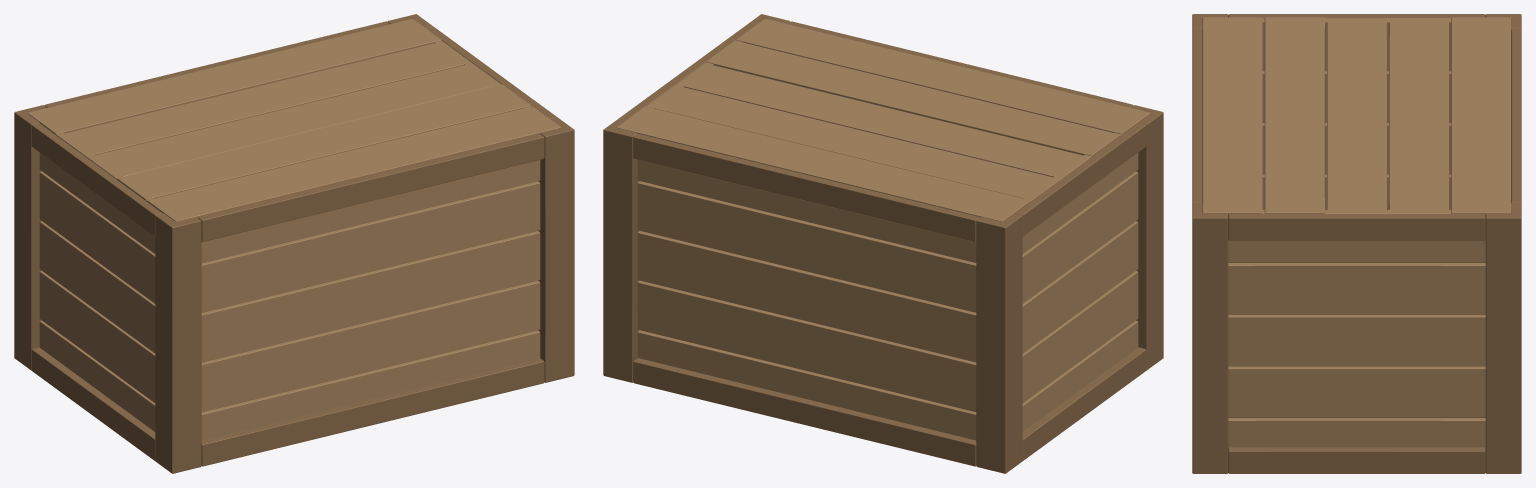
The model's file is crate_b.glb.
3 views of the same model, side by side, from view 1: azimuth 30°, elevation 25°; view 2: azimuth 150°, elevation 25°; view 3: azimuth 270°, elevation 25° (orthographic). The views are drawn at different scales.
Visible parts, largest first — view 1: by1b, by2b, by3b, ecke-1-1, top4, top1, top0, top3, top2, by0b, randy-10.5, randy-10.0 (+12 smaller); view 2: by1a, by2a, by3a, top1, ecke-11, top0, top2, top4, top3, by0a, randy10.5, randy10.0 (+12 smaller); view 3: bx2a, bx1a, bx3a, top0, top1, top4, top3, top2, ecke1-1, ecke11, bx0a, randx10.0 (+9 smaller).
Boxes of the visible parts, x1,y1,x2,y2 form: by1b: (201, 280, 540, 412); by2b: (201, 231, 540, 362); by3b: (201, 181, 540, 312); ecke-1-1: (155, 213, 201, 473); top4: (28, 19, 441, 134); top1: (117, 84, 531, 200); top0: (147, 106, 561, 221); top3: (58, 41, 470, 156); top2: (87, 63, 500, 178); by0b: (201, 330, 540, 440); randy-10.5: (198, 133, 544, 242); randy-10.0: (201, 358, 544, 466); by1a: (637, 280, 976, 412); by2a: (637, 231, 976, 362); by3a: (637, 181, 976, 312); top1: (706, 40, 1120, 156); ecke-11: (976, 213, 1022, 473); top0: (736, 18, 1150, 134); top2: (677, 63, 1090, 178); top4: (616, 106, 1030, 221); top3: (647, 85, 1060, 200); by0a: (637, 330, 976, 440); randy10.5: (633, 133, 979, 242); randy10.0: (633, 358, 976, 466); bx2a: (1228, 314, 1485, 366); bx1a: (1228, 366, 1485, 417); bx3a: (1228, 263, 1485, 314); top0: (1202, 17, 1262, 214); top1: (1264, 17, 1324, 213); top4: (1451, 17, 1511, 214); top3: (1389, 18, 1449, 213); top2: (1327, 18, 1386, 213); ecke1-1: (1192, 203, 1228, 473); ecke11: (1485, 203, 1521, 473); bx0a: (1228, 418, 1485, 447); randx10.0: (1228, 447, 1485, 473).
Bounding box in the file's own units: 0.94 × 0.5519 × 0.64.
